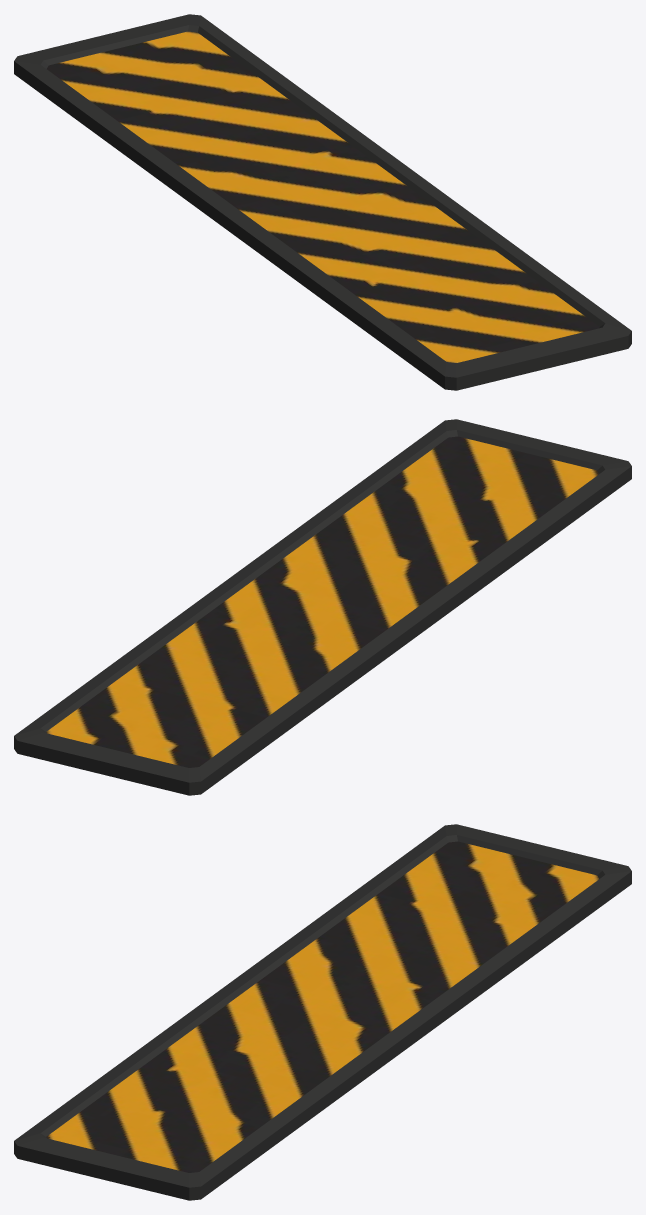
The model's file is space_SM_Prop_Greeble_Panel_01.gltf.
3 renders of one model, top to bottom at view 1: azimuth 30°, elevation 25°; view 2: azimuth 150°, elevation 25°; view 3: azimuth 330°, elevation 25°, orthographic.
Visible parts, largest first — view 1: SM_Prop_Greeble_Panel_01; view 2: SM_Prop_Greeble_Panel_01; view 3: SM_Prop_Greeble_Panel_01.
Boxes of the visible parts, left/top/right/bottom form: SM_Prop_Greeble_Panel_01: left=14, top=14, right=631, bottom=390; SM_Prop_Greeble_Panel_01: left=14, top=419, right=631, bottom=795; SM_Prop_Greeble_Panel_01: left=14, top=824, right=631, bottom=1200.
Size of the model in its own units: 1.16 by 0.1 by 4.7.
1 material, 1 textured.
